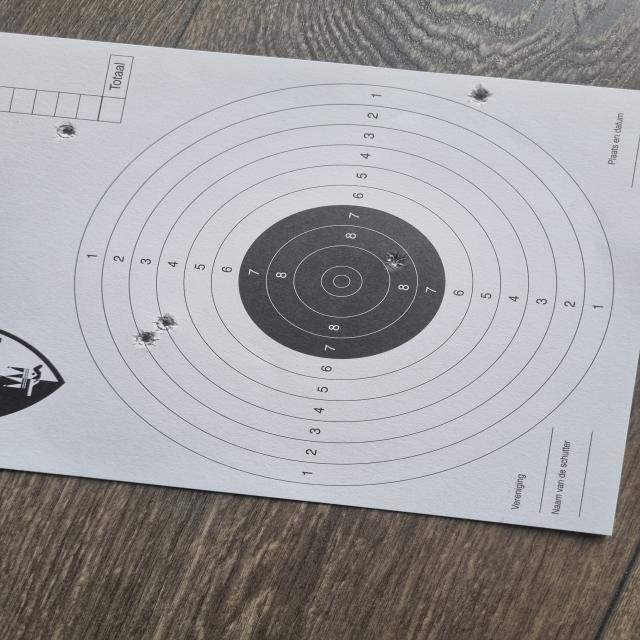0: (467, 84, 492, 107), (54, 124, 77, 139)
3: (131, 330, 156, 346)
4: (152, 313, 179, 332)
8: (384, 251, 406, 271)
Target: (73, 83, 612, 488)
black_contour: (238, 205, 446, 359)
